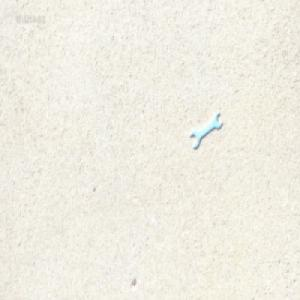Wrench: (190, 113, 221, 148)
